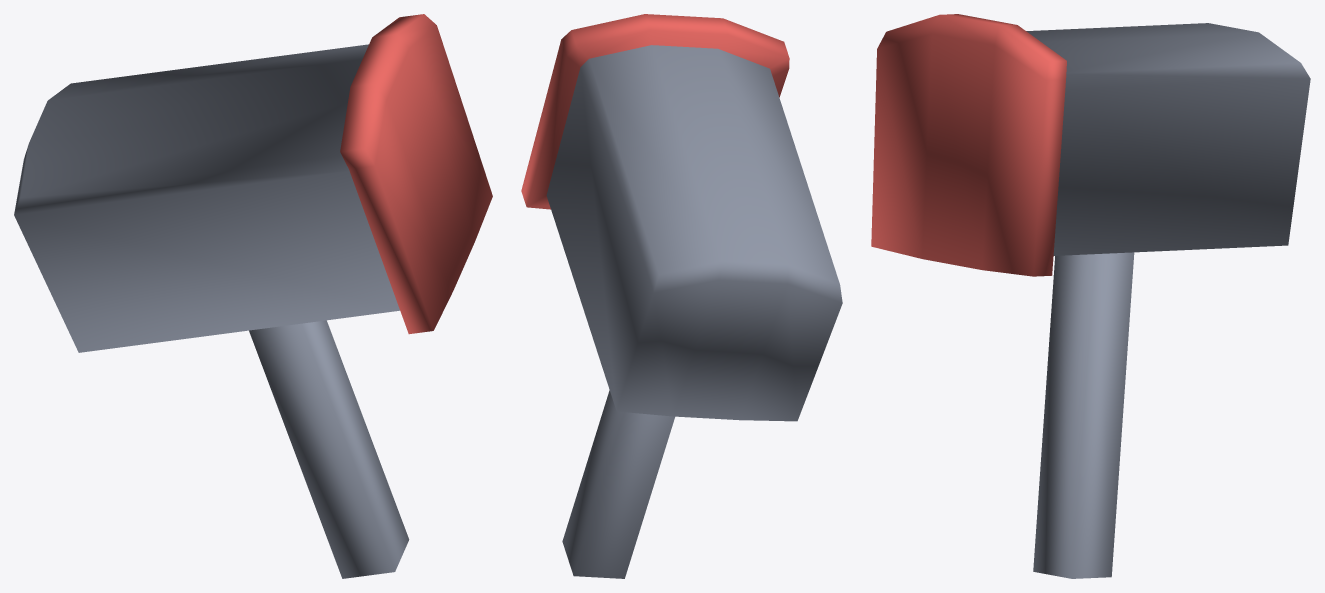
File: Cartas.fbx
3 renders of one model, left to right at view 1: azimuth 30°, elevation 25°; view 2: azimuth 150°, elevation 25°; view 3: azimuth 270°, elevation 25°, orthographic. The views are drawn at different scales.
Visible parts, largest first — view 1: Cartas; view 2: Cartas; view 3: Cartas.
Boxes of the visible parts, box(x1,y1,x2,y2) form: Cartas: box(14, 14, 492, 578); Cartas: box(521, 14, 842, 578); Cartas: box(871, 14, 1310, 578).
Bounding box in the file's own units: 51.25 × 48.96 × 67.87.
